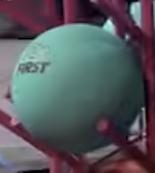algae: (11, 25, 144, 154), (102, 2, 155, 48)
